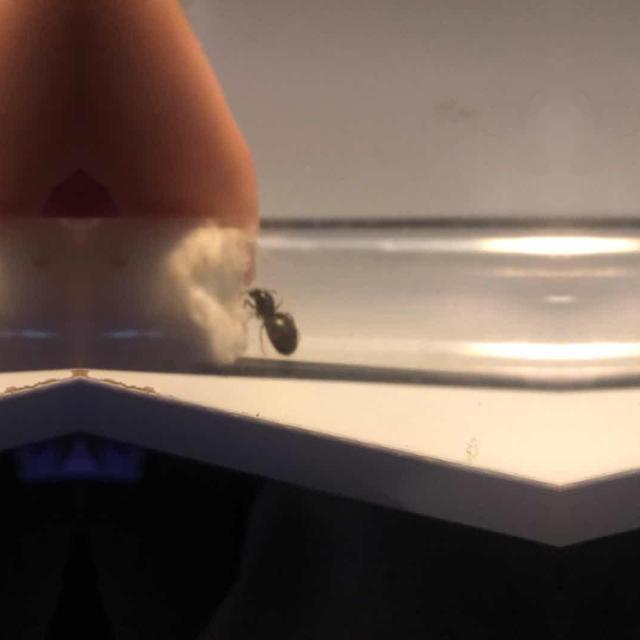Lasius: (234, 279, 304, 357)
